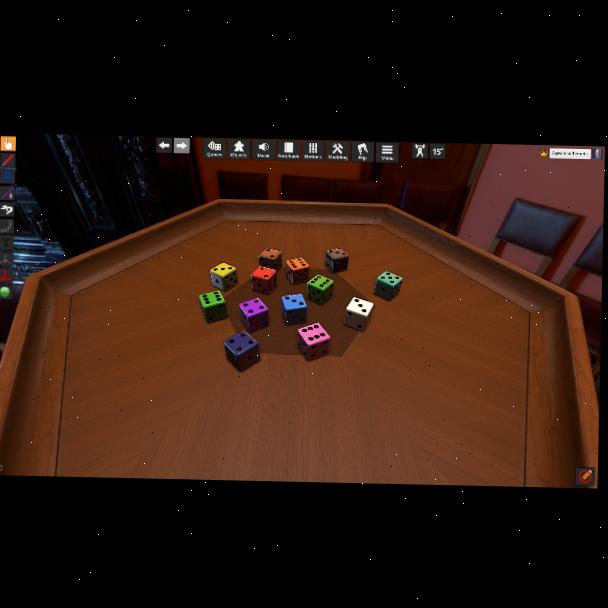d6: (224, 331, 261, 372), (297, 323, 330, 362), (239, 298, 270, 334), (343, 297, 373, 331), (199, 290, 228, 324), (280, 293, 308, 326), (306, 274, 334, 306), (374, 271, 402, 302), (209, 263, 237, 293), (251, 266, 277, 296), (286, 258, 310, 286), (326, 247, 349, 274), (259, 248, 282, 272)
